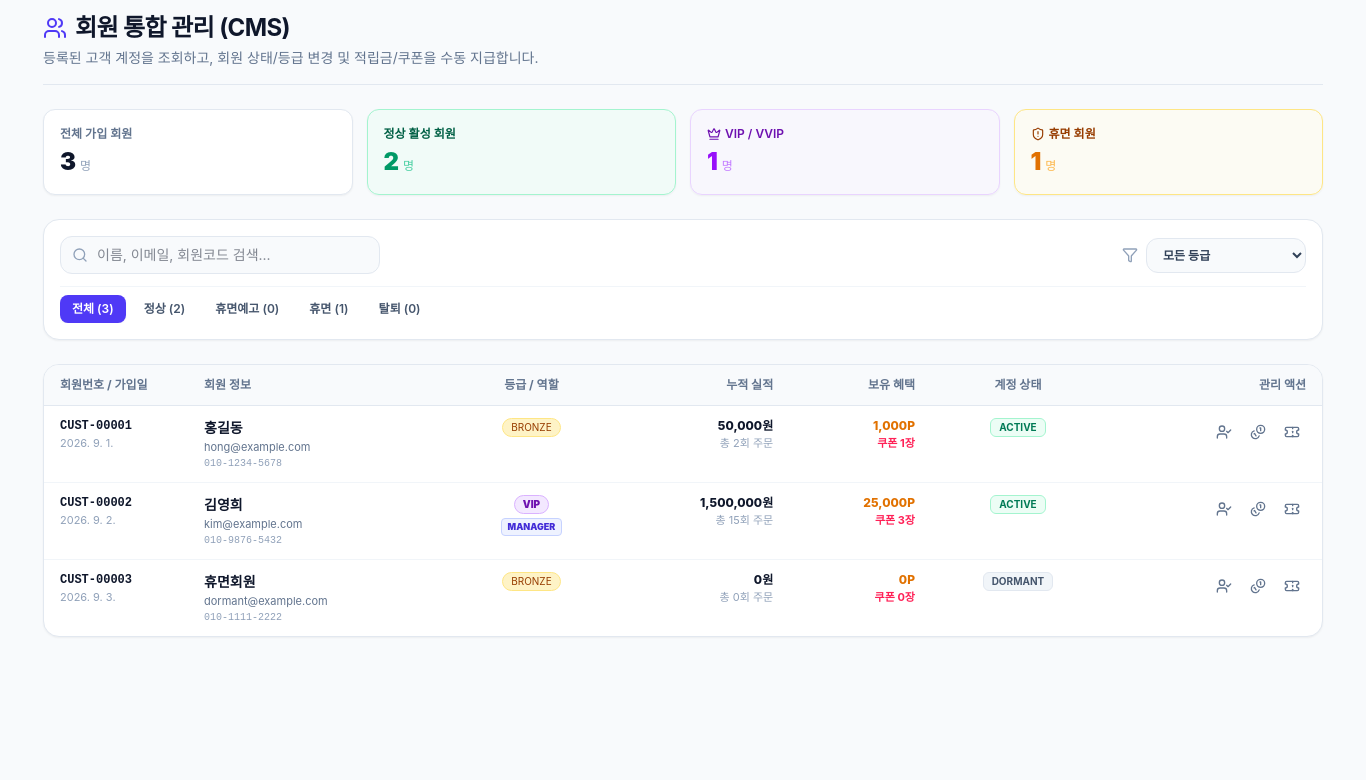
it: AdminUserListViewer Component › 이름으로 검색 시 일치하는 회원만 표시된다
Type "김영희" into the field with placeholder "이름, 이메일, 회원코드 검색..." at (220, 255), box [60,236,380,274]
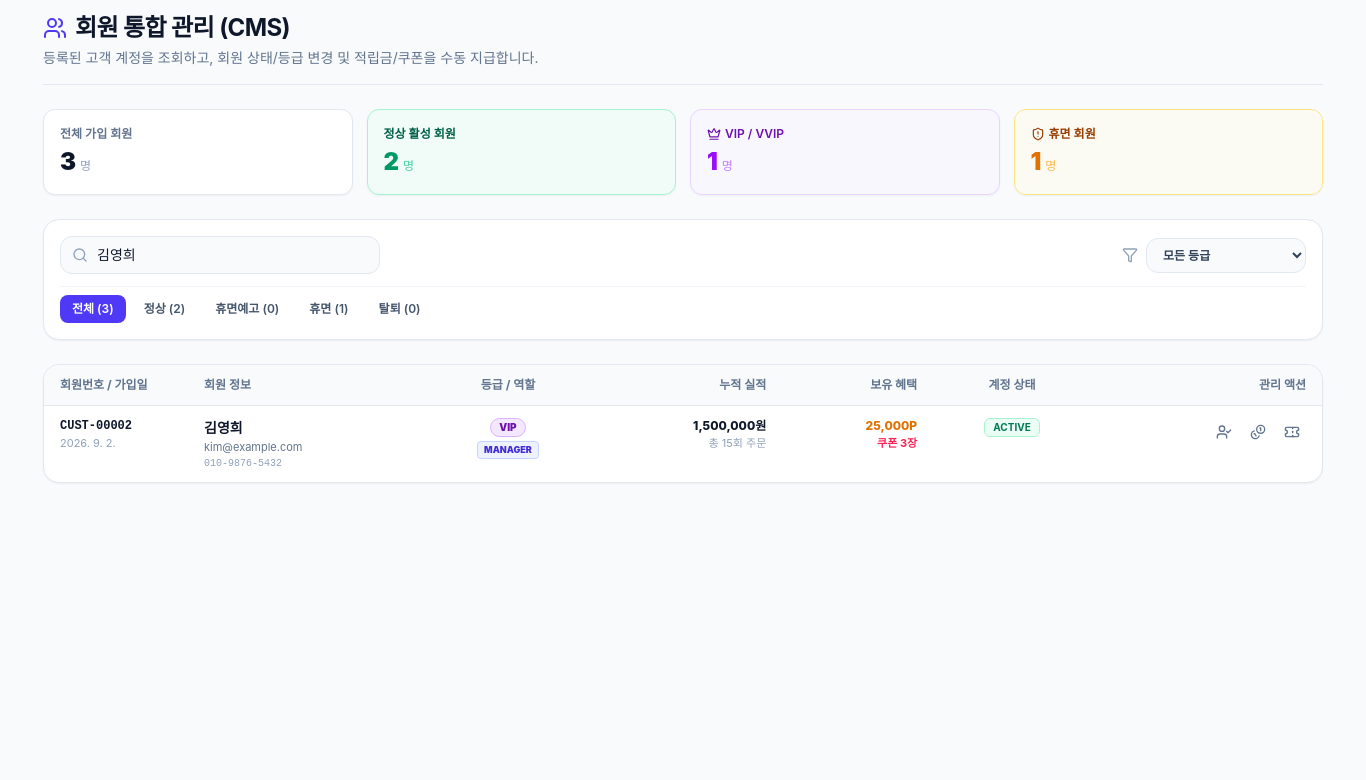
Expected: the text "김영희" is shown, [204,419,243,436]
Result: the text "홍길동" is gone
